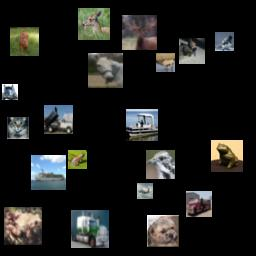airplane: (137, 183, 153, 199)
bird: (146, 150, 175, 179), (215, 32, 234, 51)
cat: (179, 38, 205, 64), (7, 117, 29, 139)
deer: (122, 15, 157, 50), (78, 8, 110, 40), (156, 53, 175, 72)
dog: (147, 215, 179, 247), (10, 27, 39, 56)
frog: (4, 207, 42, 245), (211, 140, 243, 172), (68, 150, 87, 169)
ship: (31, 155, 66, 190), (126, 109, 158, 141)
truck: (71, 210, 109, 248), (44, 105, 73, 134), (186, 191, 212, 217), (2, 84, 18, 100)
